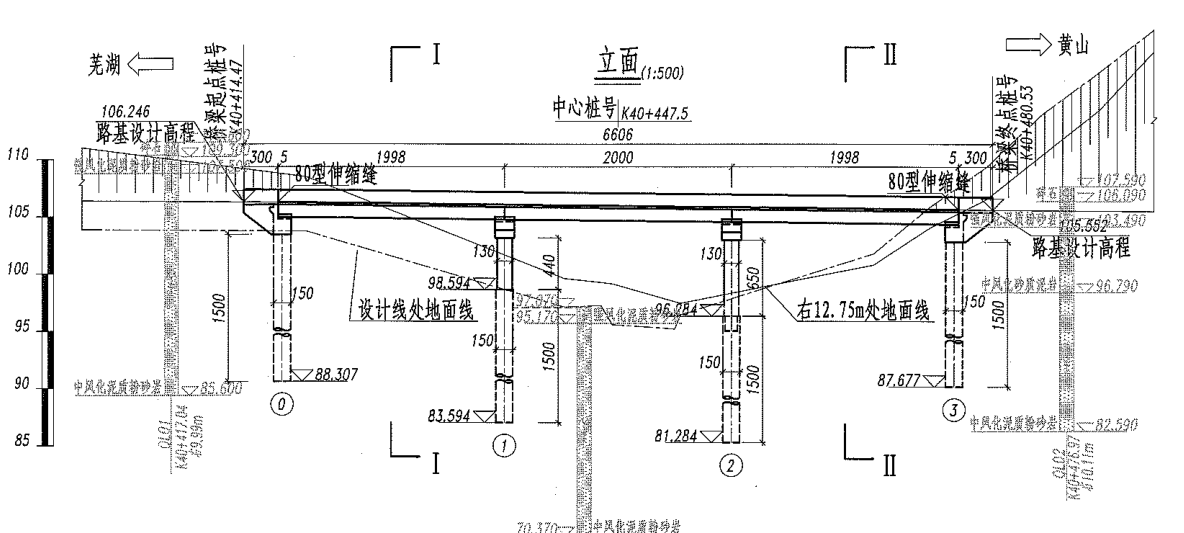C: (645, 213, 757, 482), (420, 211, 528, 465), (880, 214, 965, 427)
